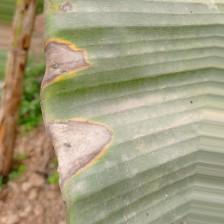cordana: (41, 0, 224, 224)
